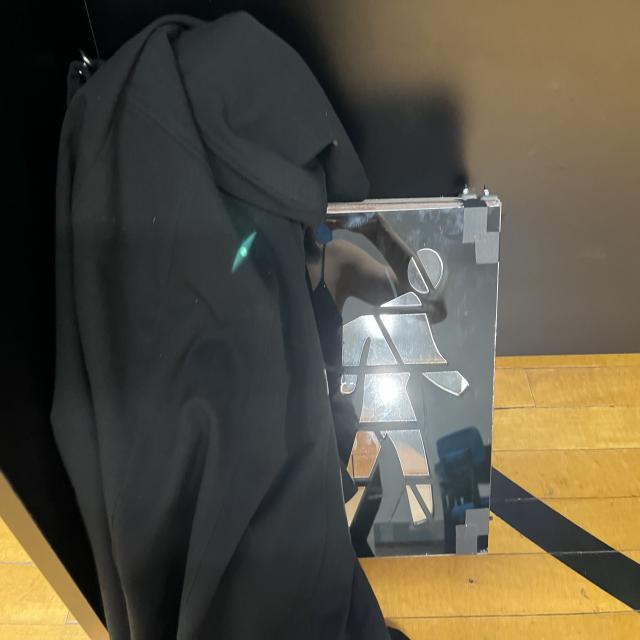go: (324, 208, 496, 552), (141, 19, 142, 21)
